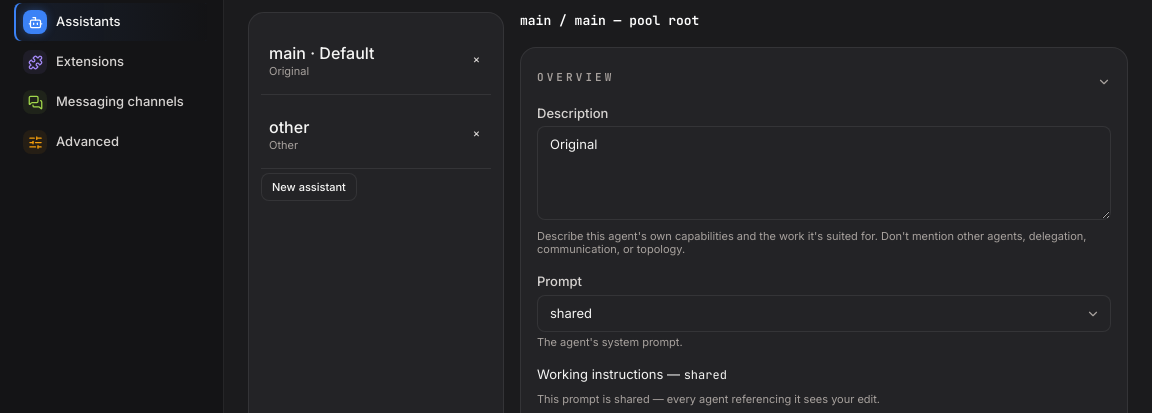
Test case: assistant settings journeys › discards only the outgoing Prompt draft, keeping Scope changes on selection
Replace the text in the text box showing "Original" with "Keep this Scope edit" at (824, 173), box 537,126 -> 1111,220
(page scrolled)
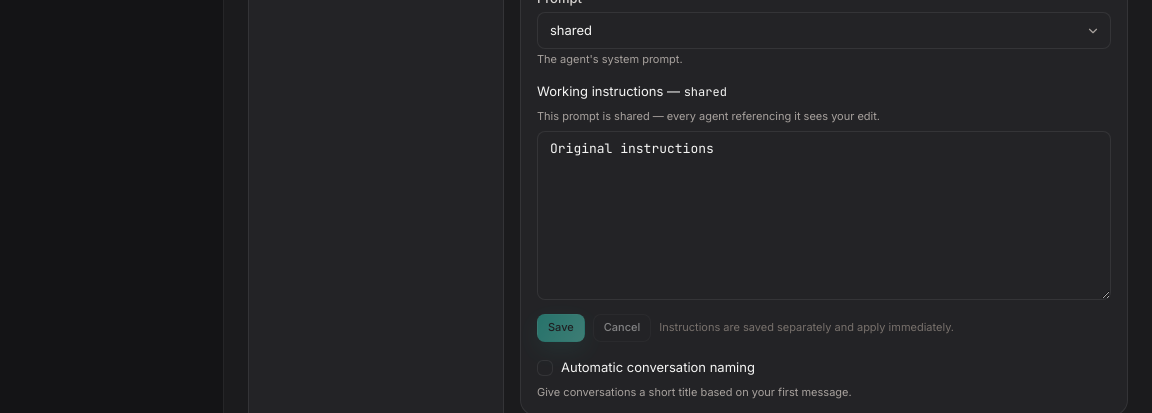
Replace the text in the text box showing "Original instructions" with "Discard this Prompt edit" at (824, 215), box 537,131 -> 1111,300
(page scrolled)
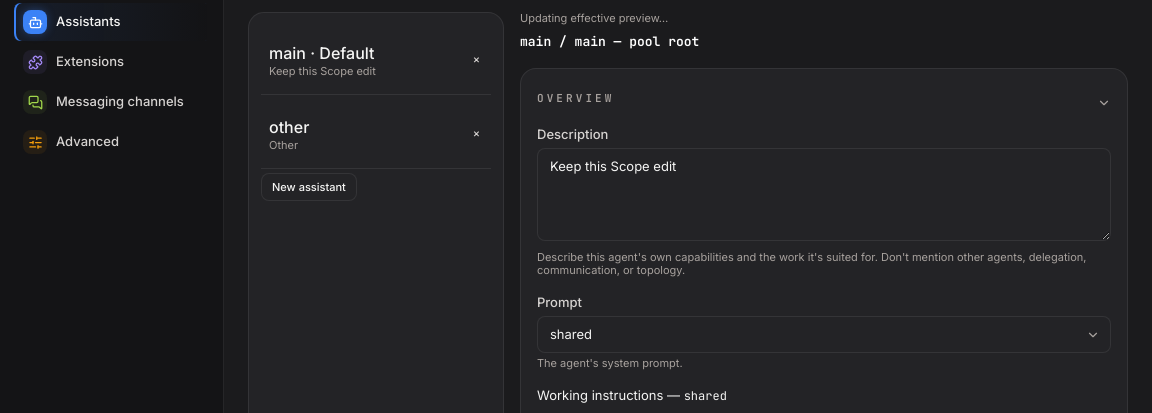
Click the button "other Other".
click(359, 134)  # box 261,107 -> 458,160
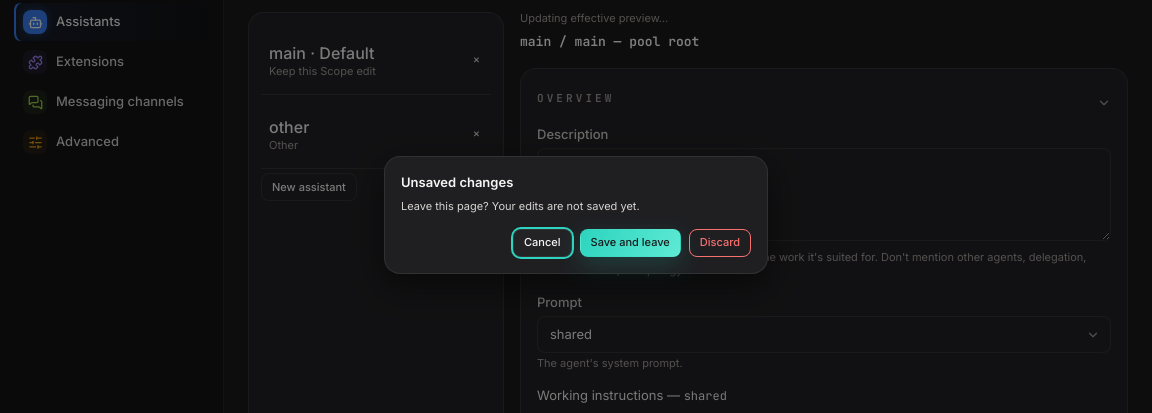
Click the button "Discard".
click(720, 243)  # box 689,229 -> 751,257
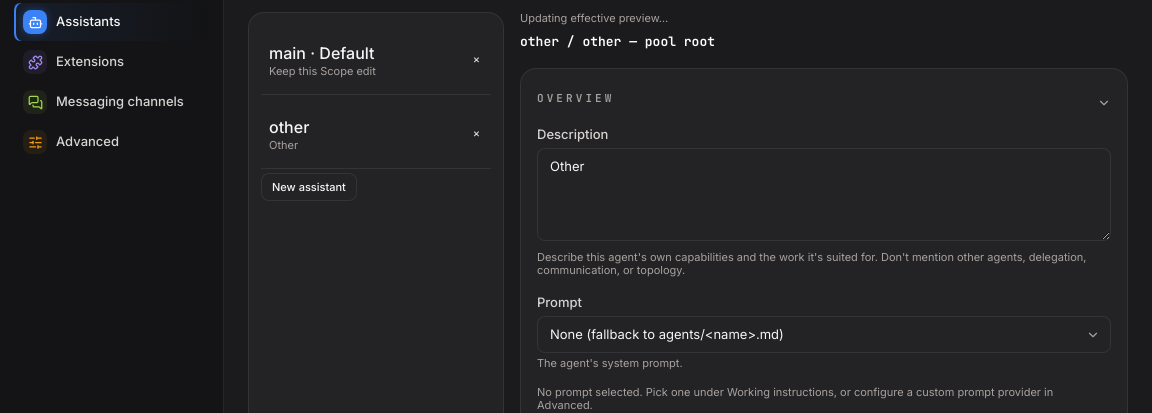
Click the button "main · Default Keep this Scope edit".
click(359, 59)  # box 261,33 -> 458,86
(page scrolled)
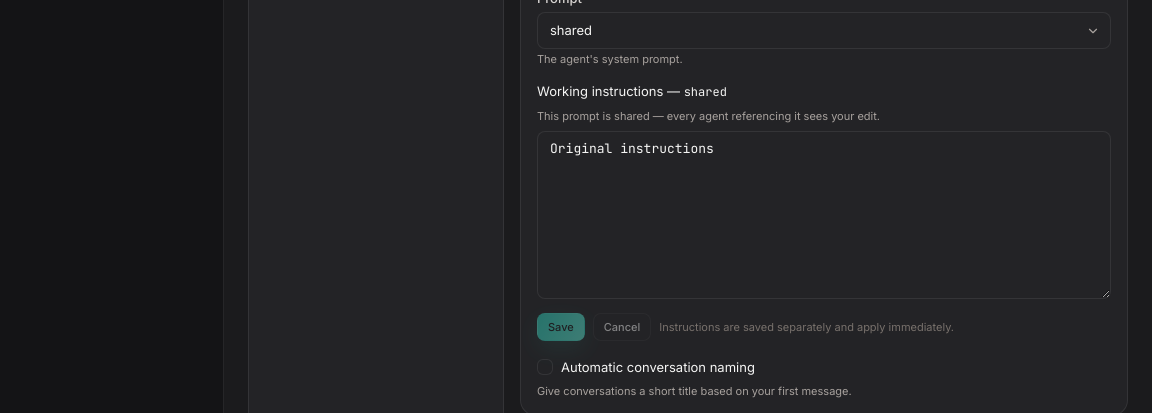
Expected: the text box showing "Original instructions" is shown, 537,131 -> 1111,300
